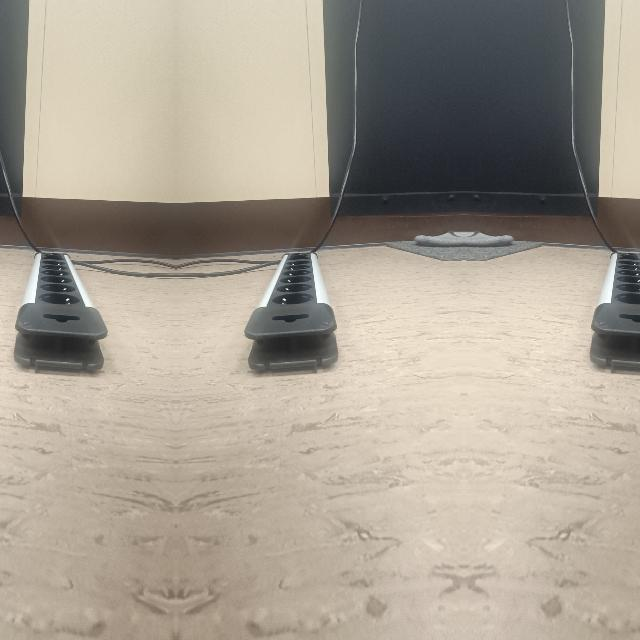obstacle: (246, 245, 340, 369), (10, 245, 104, 369), (587, 245, 640, 369)
